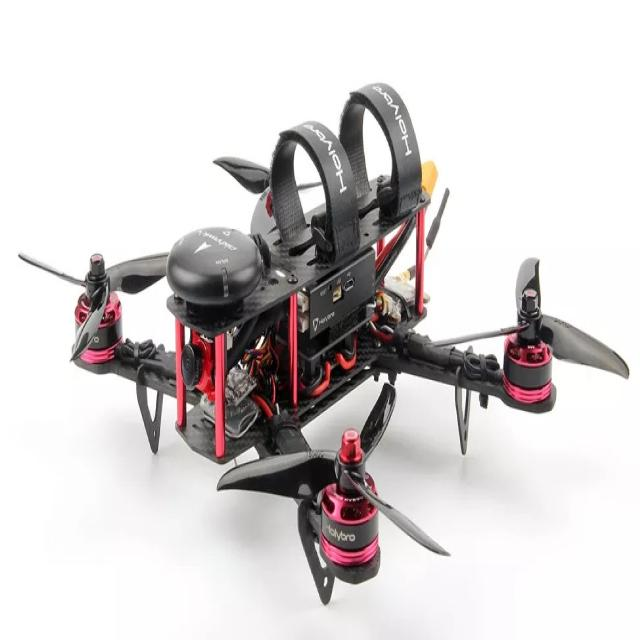drone: (28, 33, 620, 581)
